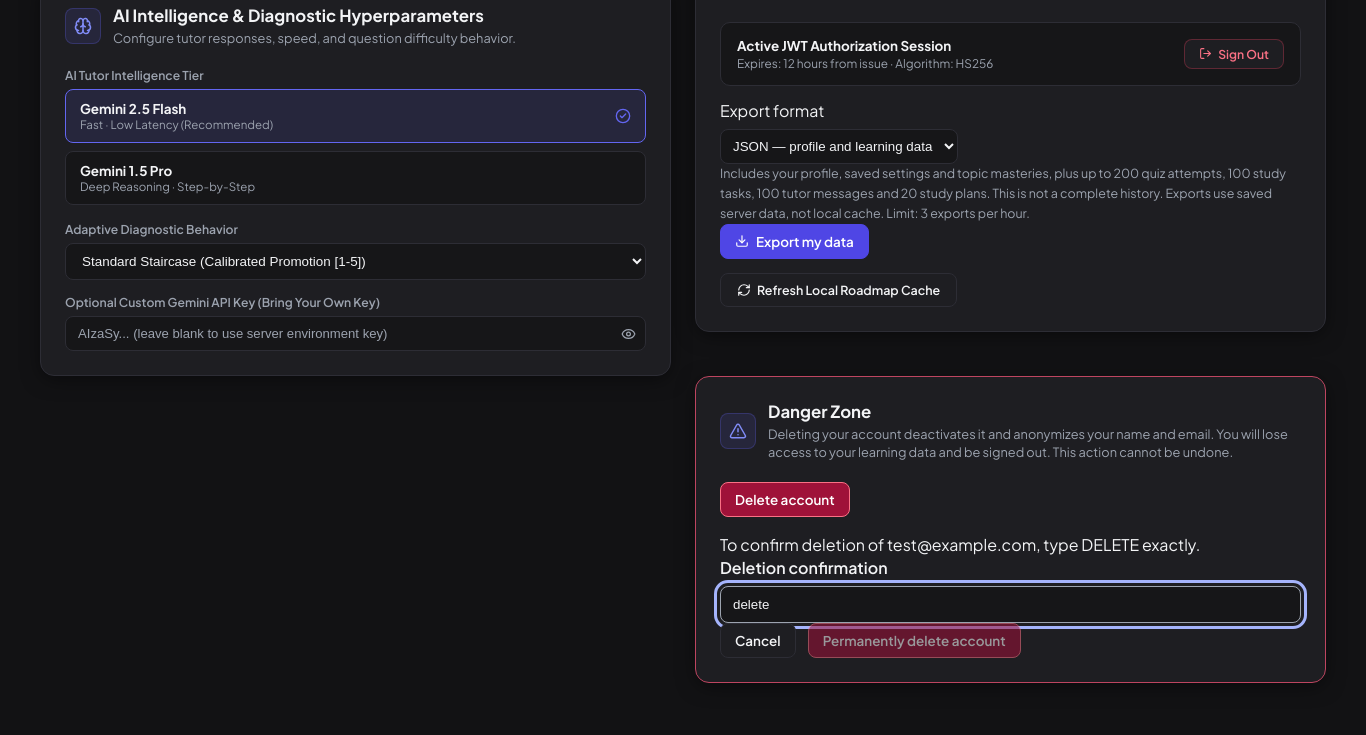
Test: Settings account deletion (mocked API only) › requires exact DELETE, guards form submission, and focuses the labelled input
Earlier steps of the test are not shown.
(page scrolled)
Check: the button "Permanently delete account" is disabled, box [808,623,1021,658]
Submit the form named "Confirm account deletion", box [720,533,1301,658]
Replace the text in the field labelled "Deletion confirmation" with " DELETE". click: (1010, 604)
box: [720,586,1301,623]
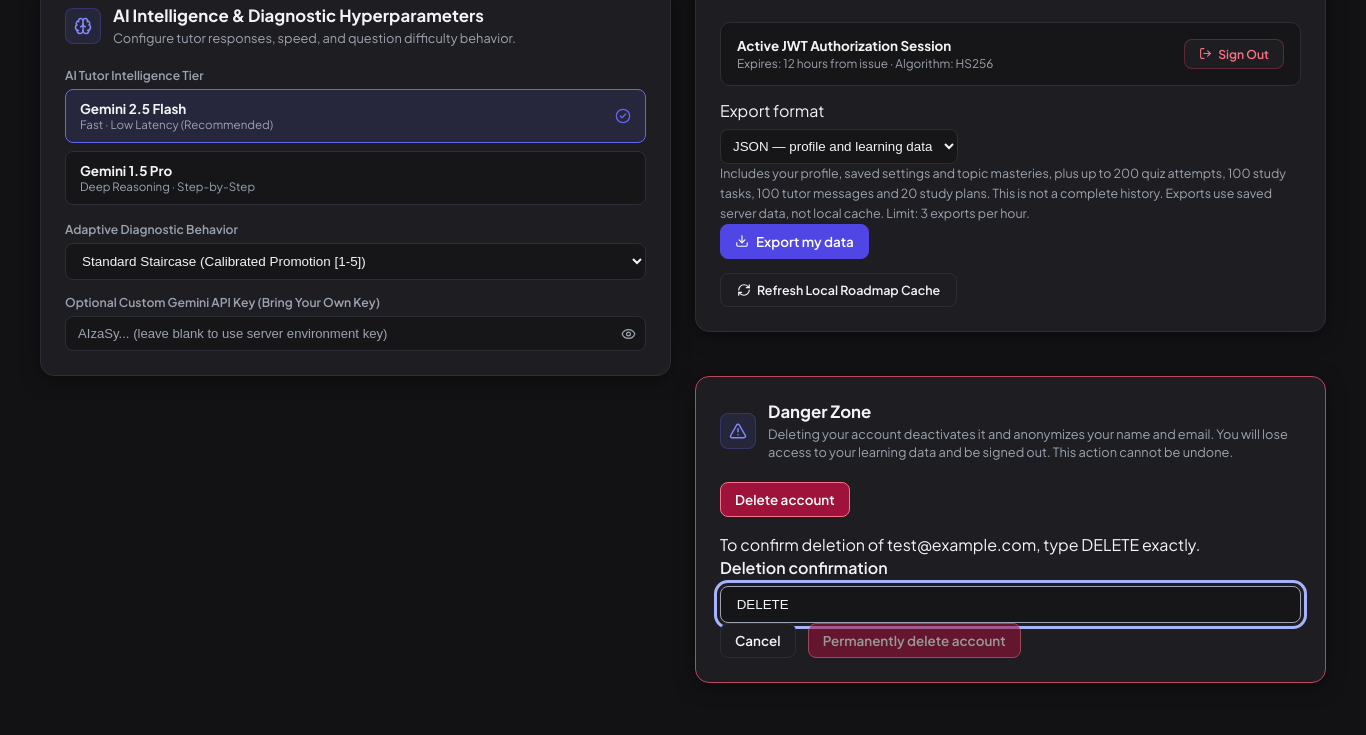
Check: the button "Permanently delete account" is disabled, box [808,623,1021,658]
Submit the form named "Confirm account deletion", box [720,533,1301,658]
Replace the text in the field labelled "Deletion confirmation" with "DELETE ". click: (1010, 604)
box: [720,586,1301,623]
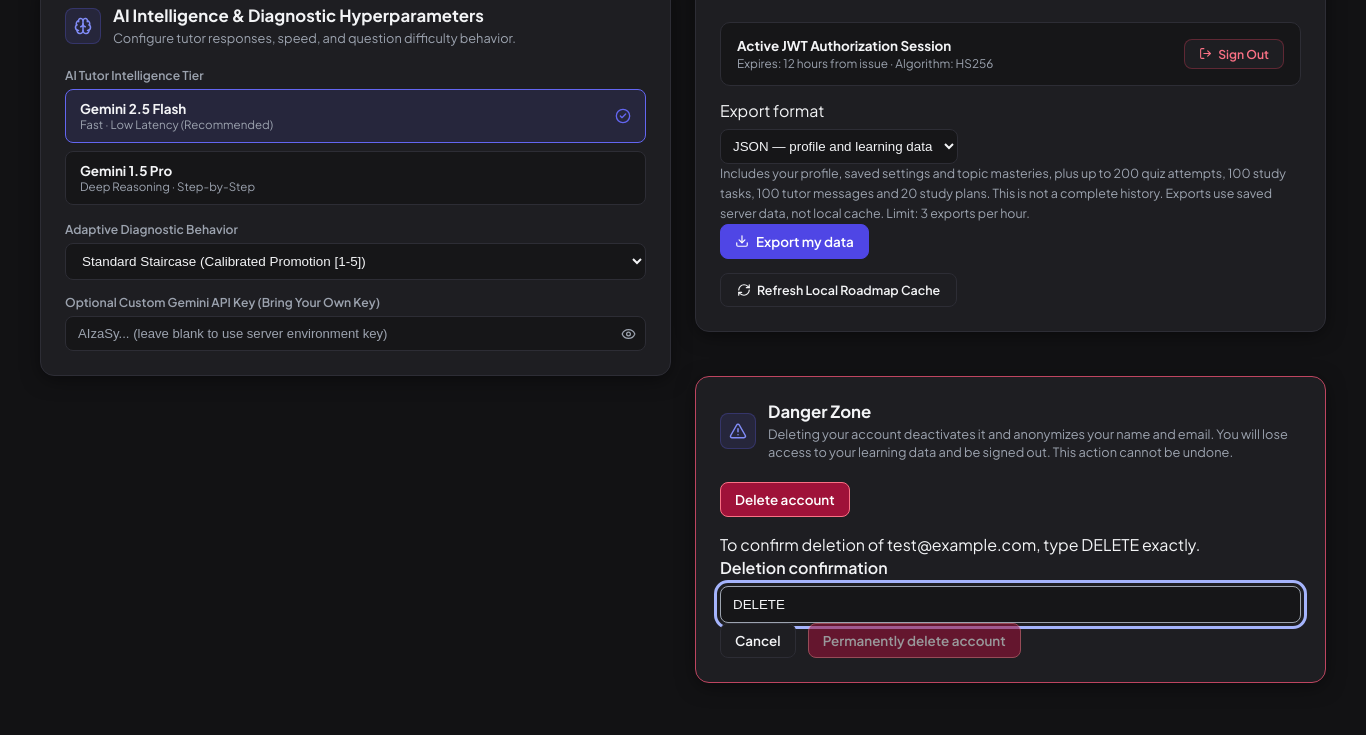
Check: the button "Permanently delete account" is disabled, box [808,623,1021,658]
Submit the form named "Confirm account deletion", box [720,533,1301,658]
Replace the text in the field labelled "Deletion confirmation" with "DELET". click: (1010, 604)
box: [720,586,1301,623]
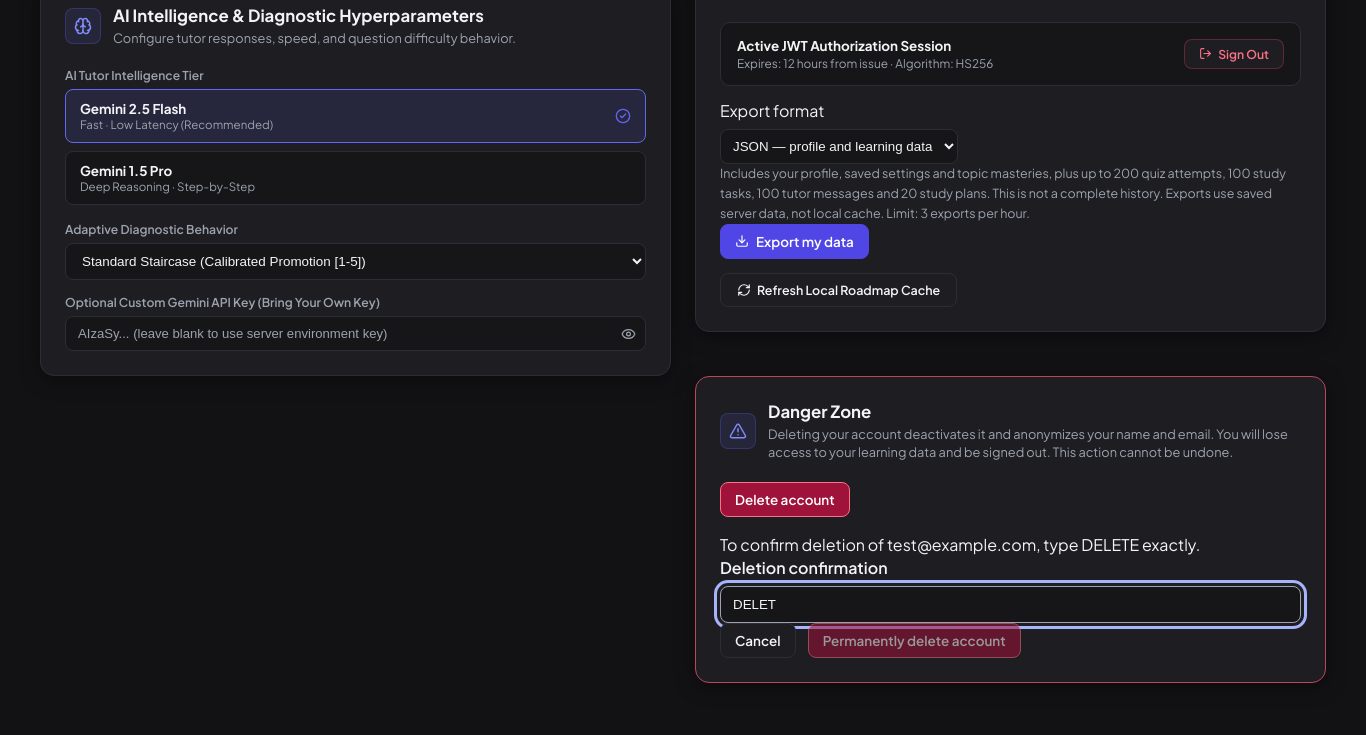
Check: the button "Permanently delete account" is disabled, box [808,623,1021,658]
Submit the form named "Confirm account deletion", box [720,533,1301,658]
Replace the text in the field labelled "Deletion confirmation" with "DELETE". click: (1010, 604)
box: [720,586,1301,623]
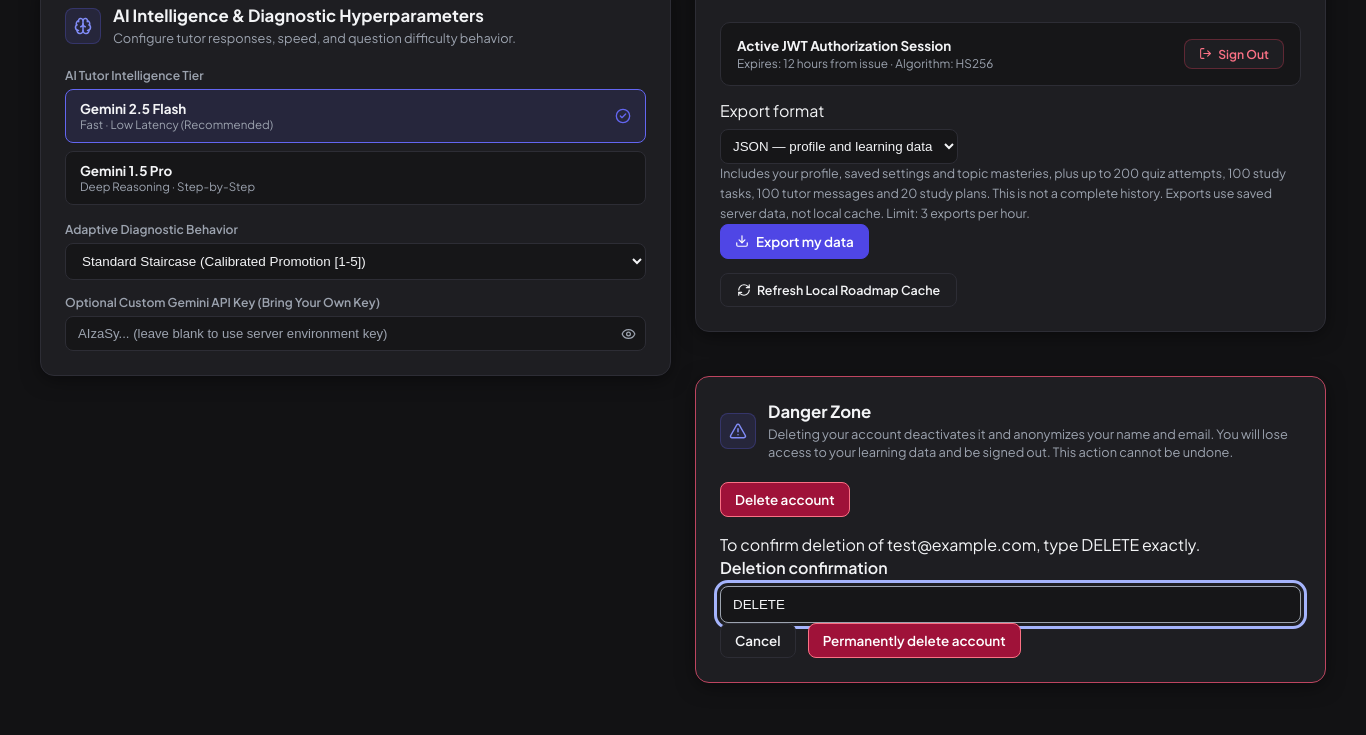
Check: the button "Permanently delete account" is enabled, box [808,623,1021,658]
